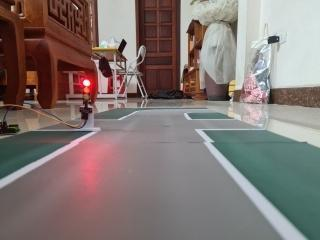red: (73, 71, 100, 115)
